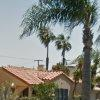Palm tree: (28, 2, 99, 70)
